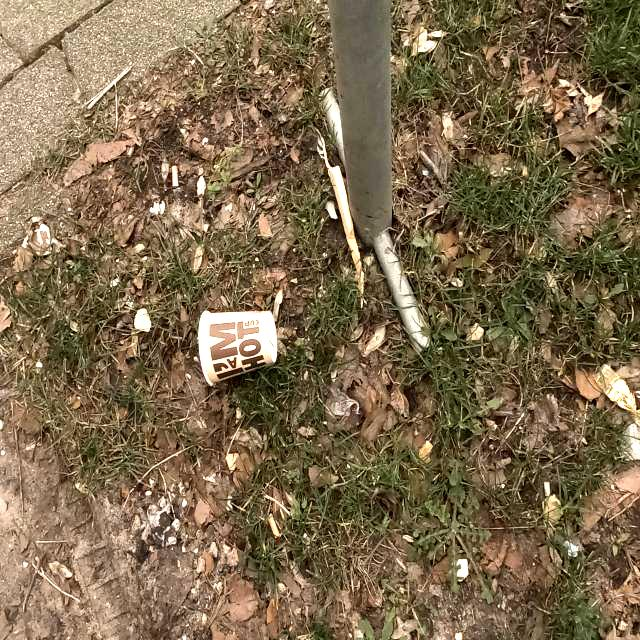Coffee Cup: (196, 308, 274, 376)
